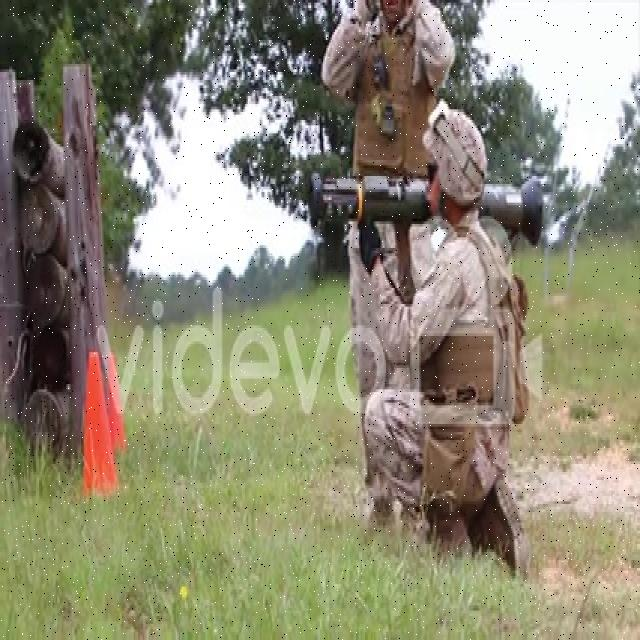bazooka: (307, 165, 551, 249)
